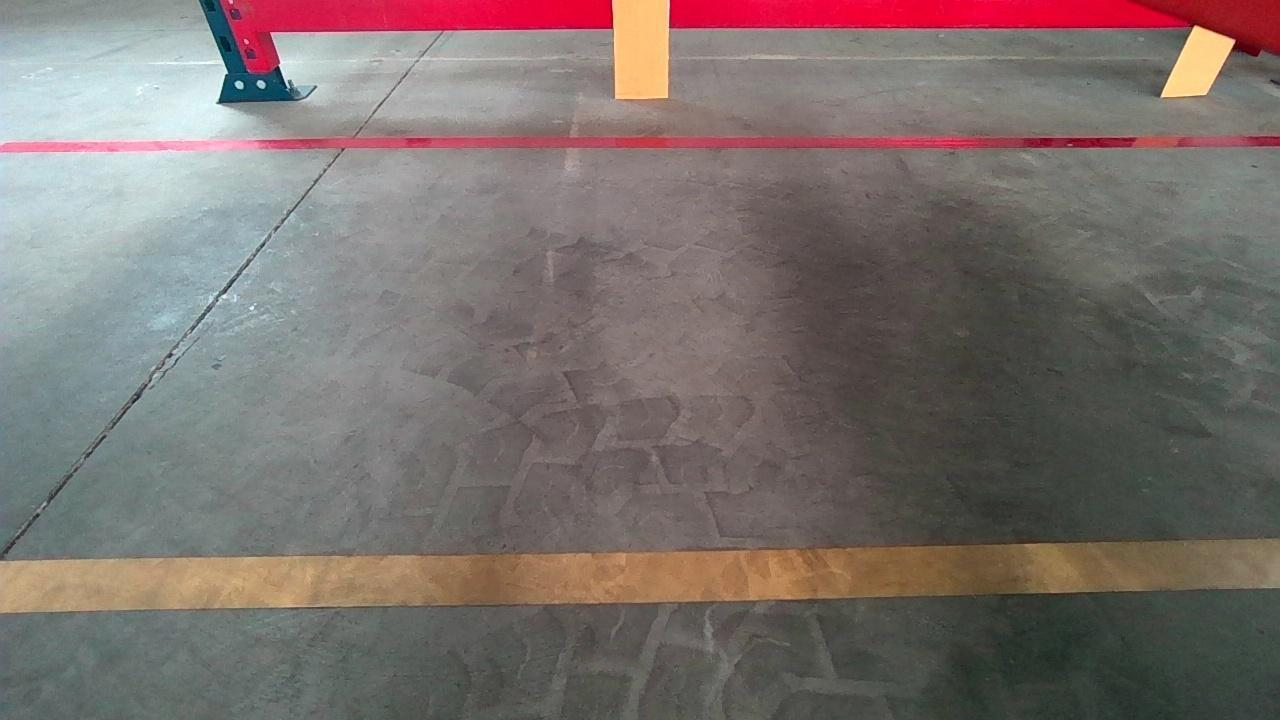h_rack: (245, 0, 1205, 36)
orange_strip: (613, 0, 671, 97), (1161, 23, 1239, 94)
red_line: (0, 132, 1280, 152)
yellow_line: (8, 536, 1280, 616)
